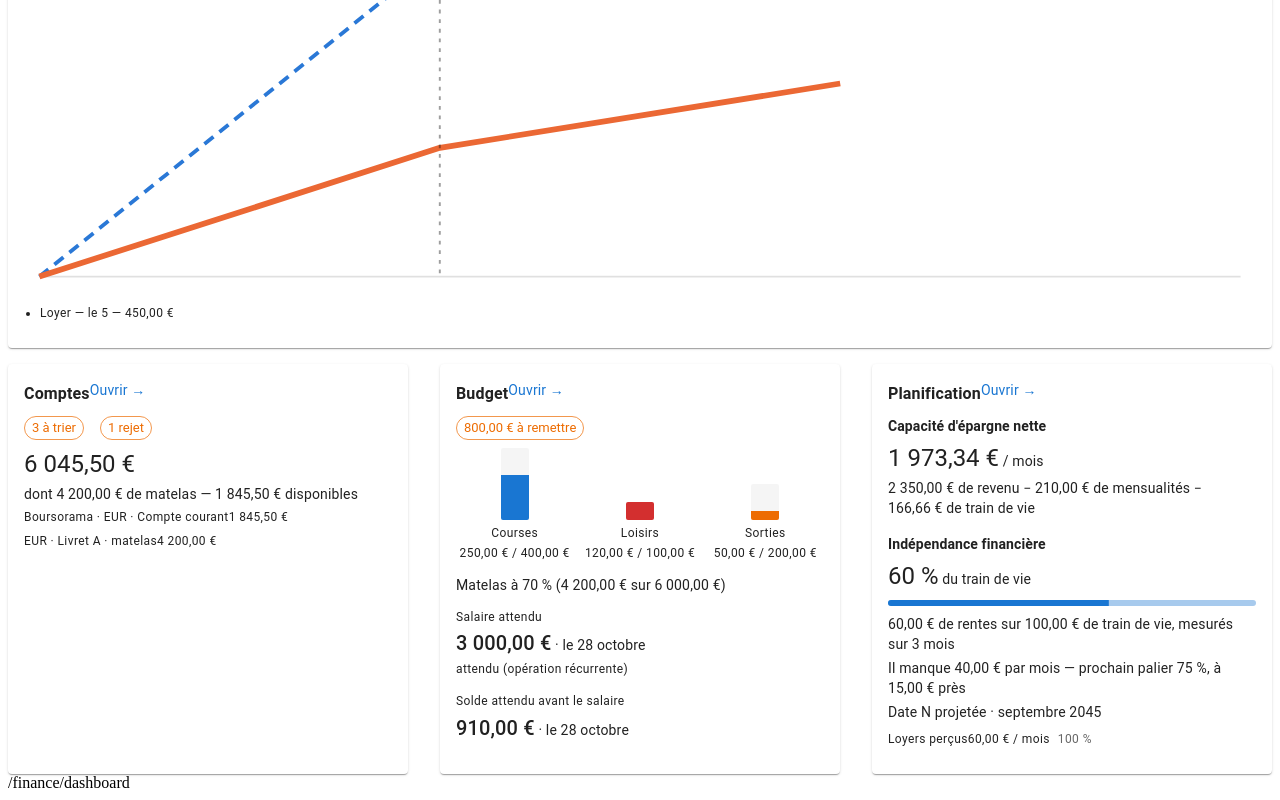
Test: FinanceDashboardPage › the pill pill-advance opens /finance/savings-advances, not the tile
The width and height of the screenshot is (1280, 800).
(page scrolled)
Click the link with test id "pill-advance" at (520, 428), box [456, 416, 584, 440]
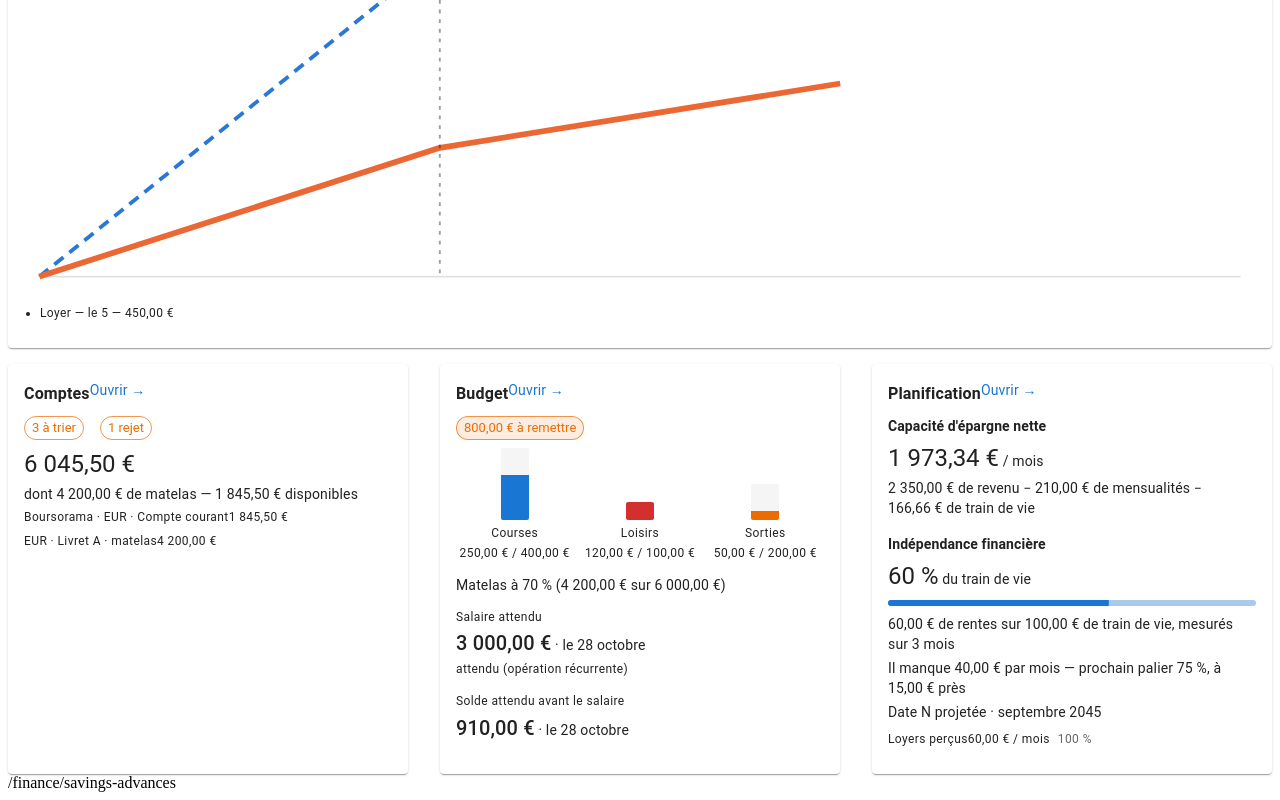
expect the text with test id "where" reads "/finance/savings-advances": met, box [8, 774, 176, 791]
